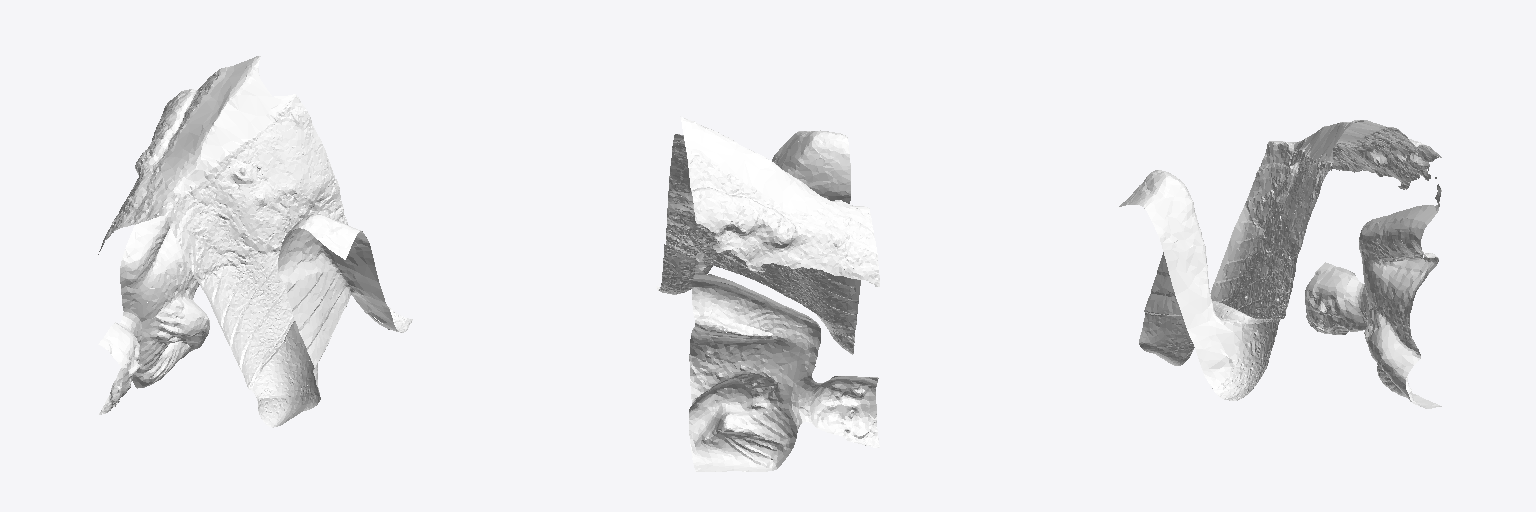
File: tile_4_5.obj
3 views of the same model, side by side, from view 1: azimuth 30°, elevation 25°; view 2: azimuth 150°, elevation 25°; view 3: azimuth 270°, elevation 25° (orthographic).
Visible parts, largest first — view 1: texture_0; view 2: texture_0; view 3: texture_0.
Part boxes in pixels (x1,y1,x2,y2): texture_0: (98,56,412,427); texture_0: (656,116,879,471); texture_0: (1119,120,1441,408).
Size of the model in its own units: 0.4195 by 0.4717 by 0.436.